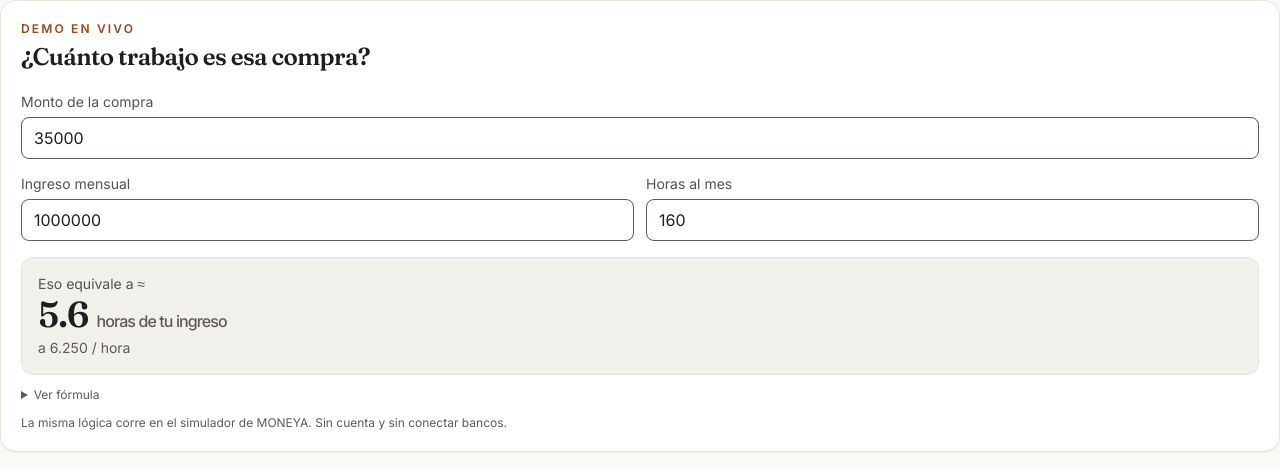
HeroDemo › recalcula la equivalencia al cambiar el monto
Replace the text in the field labelled "Monto de la compra" with "70000" at [640, 138], box x1=21 y1=117 x2=1259 y2=159
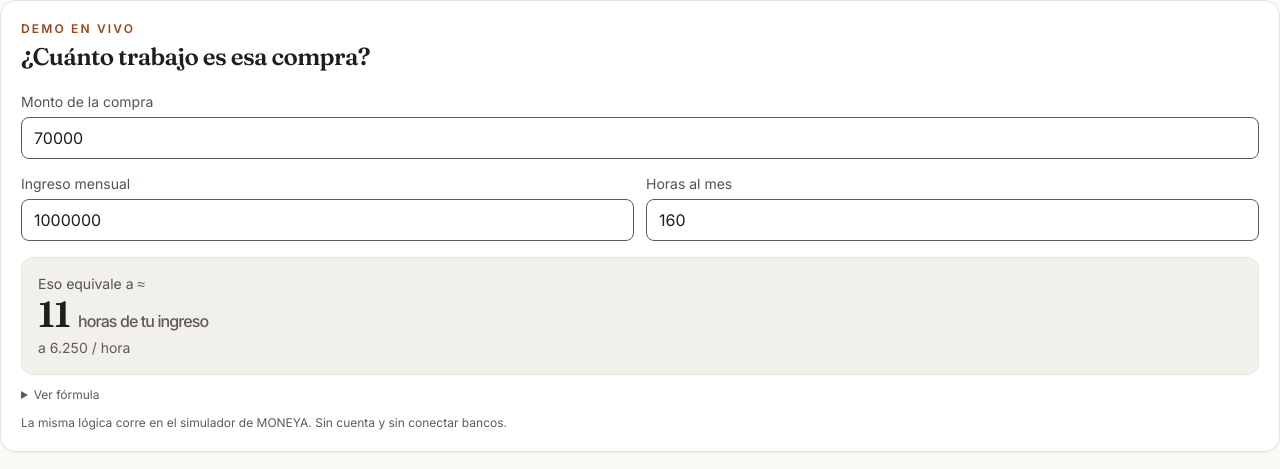
Now the element showing "Eso equivale a ≈ 11horas de tu ingreso a 6.250 / hora" is shown, box x1=21 y1=257 x2=1259 y2=375
